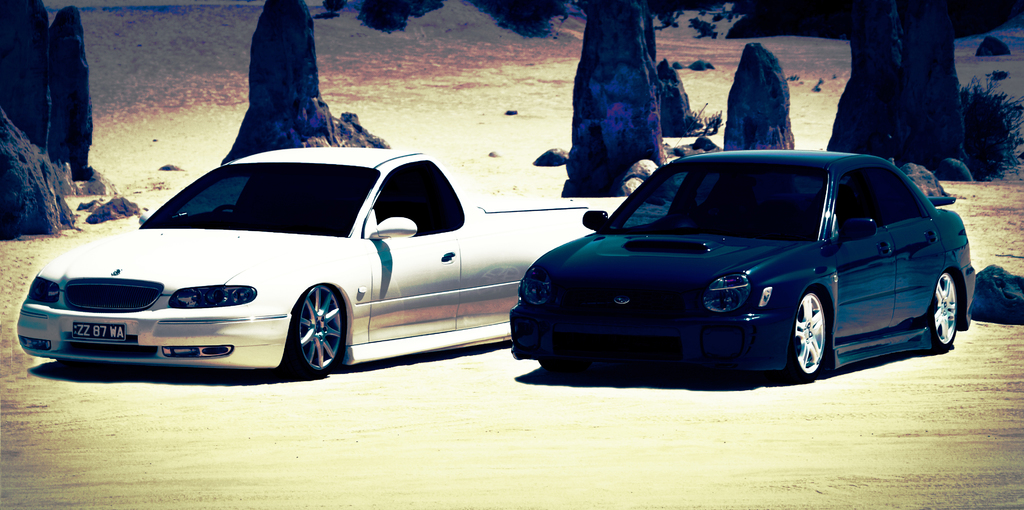cars: (17, 147, 589, 372), (501, 148, 980, 385)
